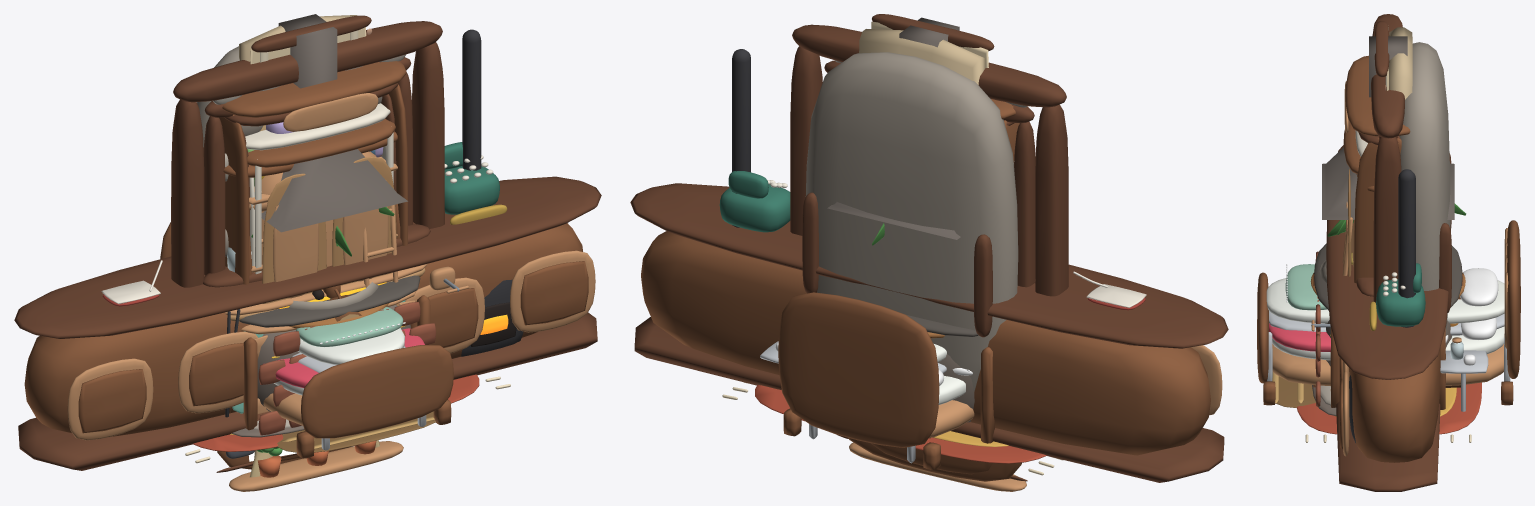
Rendered from granja_muebles.glb.
3 views of the same model, side by side, from view 1: azimuth 30°, elevation 25°; view 2: azimuth 150°, elevation 25°; view 3: azimuth 270°, elevation 25° (orthographic). The views are drawn at different scales.
Parts seen in each view (by area): view 1: mostrador cubierta, mostrador cuerpo, piecera, mostrador zócalo, campana fragua, dintel, jamba -1, jamba 1, estante corona, mostrador moldura 4, mostrador moldura 0, estante lado -1 (+39 smaller); view 2: chimenea cuerpo, mostrador cuerpo, cabecera, mostrador cubierta, mostrador zócalo, jamba -1, dintel, jamba 1, jamba puerta -1, muro, registradora, tapete (+15 smaller); view 3: mostrador cubierta, chimenea cuerpo, mostrador cuerpo, mostrador zócalo, jamba 1, campana fragua, estante lado 1, cama marco, colchón camilla, tubo estufa, cabecera, tapete (+23 smaller).
Boxes of the visible parts, bbox=[...] form: mostrador cubierta: bbox=[14, 176, 601, 338]; mostrador cuerpo: bbox=[24, 223, 582, 436]; piecera: bbox=[301, 345, 453, 438]; mostrador zócalo: bbox=[18, 312, 597, 470]; campana fragua: bbox=[261, 14, 407, 232]; dintel: bbox=[173, 21, 442, 102]; jamba -1: bbox=[171, 99, 204, 287]; jamba 1: bbox=[412, 42, 444, 228]; estante corona: bbox=[222, 61, 406, 117]; mostrador moldura 4: bbox=[520, 261, 588, 325]; mostrador moldura 0: bbox=[78, 369, 146, 433]; estante lado -1: bbox=[219, 114, 249, 284]; chimenea cuerpo: bbox=[805, 52, 1018, 391]; mostrador cuerpo: bbox=[641, 231, 1210, 455]; cabecera: bbox=[778, 292, 939, 447]; mostrador cubierta: bbox=[630, 183, 1228, 348]; mostrador zócalo: bbox=[634, 317, 1224, 482]; jamba -1: bbox=[1035, 104, 1068, 296]; dintel: bbox=[792, 24, 1066, 107]; jamba 1: bbox=[790, 46, 822, 235]; jamba puerta -1: bbox=[1014, 121, 1035, 287]; muro: bbox=[859, 29, 985, 84]; registradora: bbox=[719, 184, 790, 232]; tapete: bbox=[755, 385, 1046, 463]; mostrador cubierta: bbox=[1326, 145, 1448, 379]; chimenea cuerpo: bbox=[1399, 42, 1450, 331]; mostrador cuerpo: bbox=[1349, 347, 1440, 462]; mostrador zócalo: bbox=[1336, 401, 1440, 491]; jamba 1: bbox=[1373, 137, 1401, 302]; campana fragua: bbox=[1322, 36, 1454, 219]; estante lado 1: bbox=[1354, 138, 1401, 283]; cama marco: bbox=[1272, 344, 1504, 385]; colchón camilla: bbox=[1266, 278, 1504, 323]; tubo estufa: bbox=[1398, 169, 1415, 327]; cabecera: bbox=[1506, 220, 1520, 378]; tapete: bbox=[1297, 382, 1481, 434].
Bounding box in the file's own units: 4.8 × 3.52 × 2.11.
